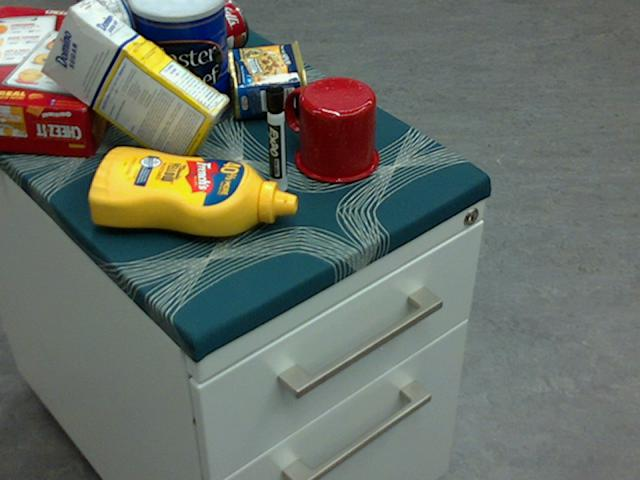cracker_box: (0, 8, 137, 158)
gelatin_box: (129, 0, 212, 45)
large_marker: (266, 82, 285, 191)
master_chef_can: (128, 0, 230, 131)
mug: (286, 75, 378, 183)
mustard_bottle: (88, 147, 297, 235)
potted_meat_can: (227, 39, 309, 118)
sugar_box: (42, 0, 231, 170)
tomato_soup_can: (152, 0, 249, 76)
tuna_fish_can: (74, 0, 136, 74)
